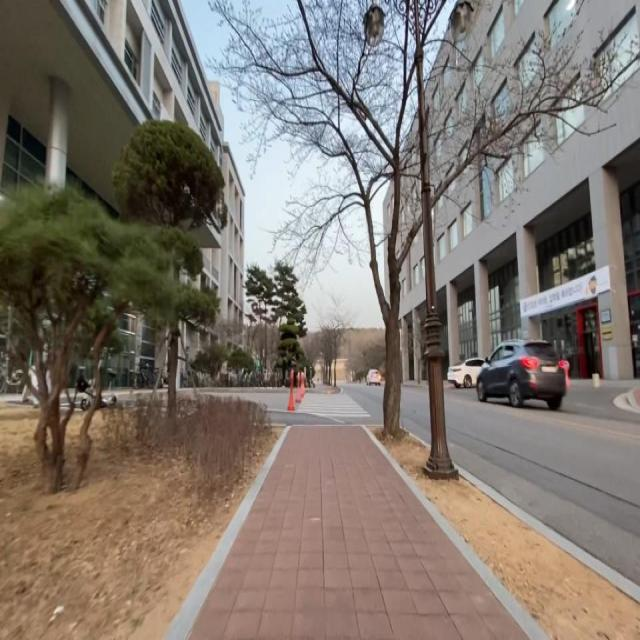sidewalk: (187, 412, 531, 640), (306, 385, 341, 395), (625, 386, 640, 409)
